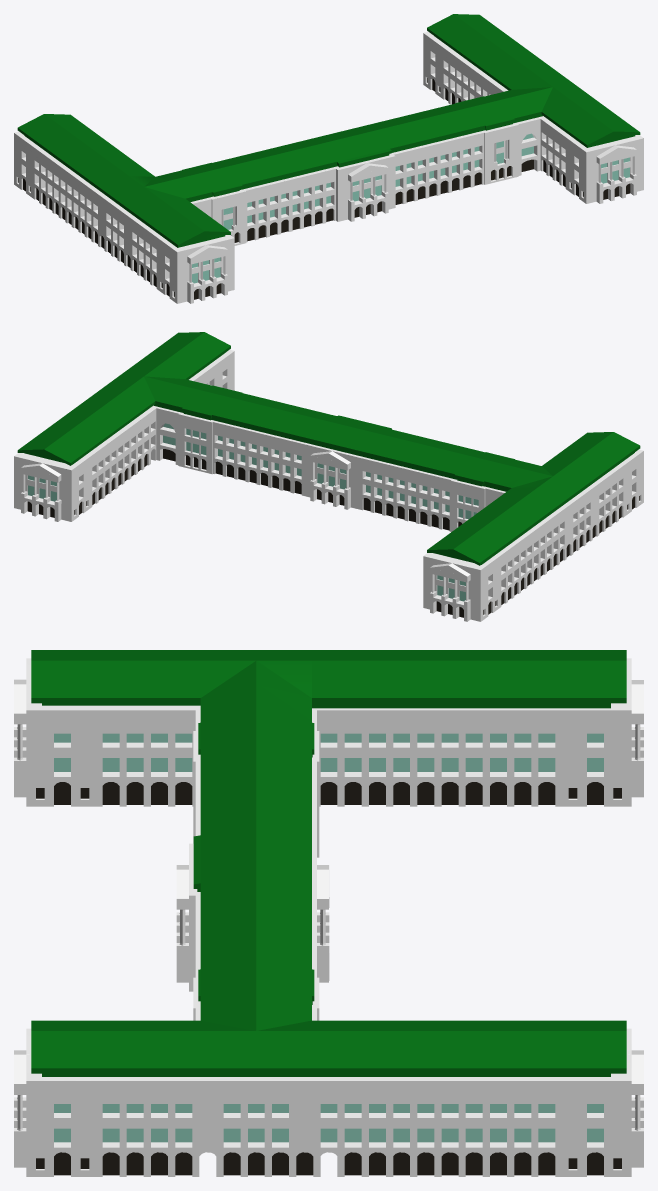
File: St La Salle Hall.fbx
3 views of the same model, one above another, from view 1: azimuth 30°, elevation 25°; view 2: azimuth 150°, elevation 25°; view 3: azimuth 270°, elevation 25° (orthographic). The views are drawn at different scales.
Parts seen in each view (by area): view 1: St. La Salle Hall; view 2: St. La Salle Hall; view 3: St. La Salle Hall.
Boxes of the visible parts, x1=… form: St. La Salle Hall: x1=14, y1=14, x2=643, y2=303; St. La Salle Hall: x1=14, y1=332, x2=643, y2=621; St. La Salle Hall: x1=14, y1=650, x2=643, y2=1176.
Bounding box in the file's own units: 296 × 39.23 × 187.
